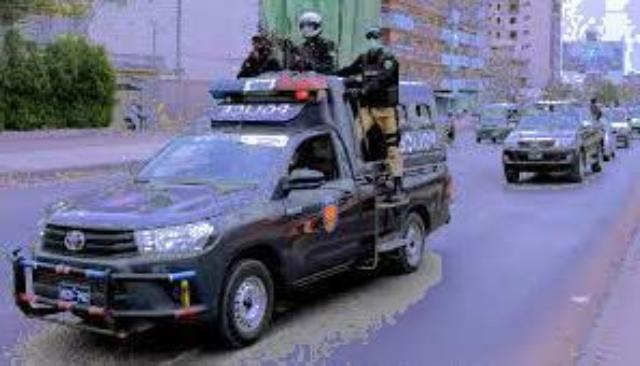police: (13, 71, 453, 336)
